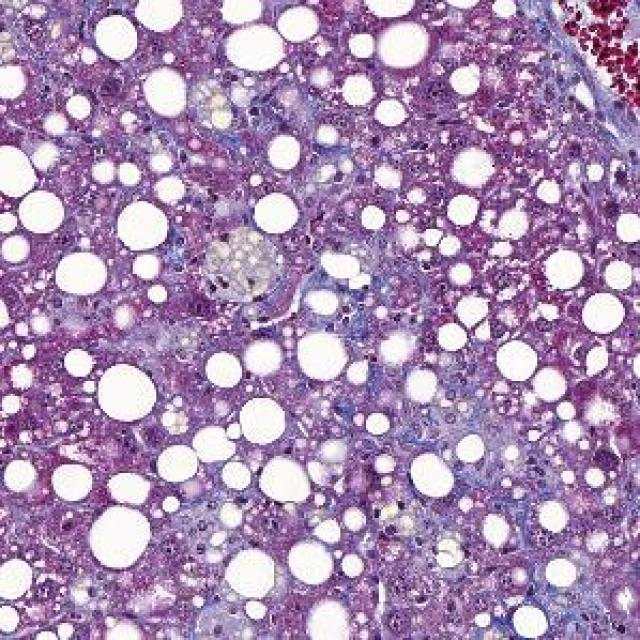fibrosis: (330, 289, 447, 347)
